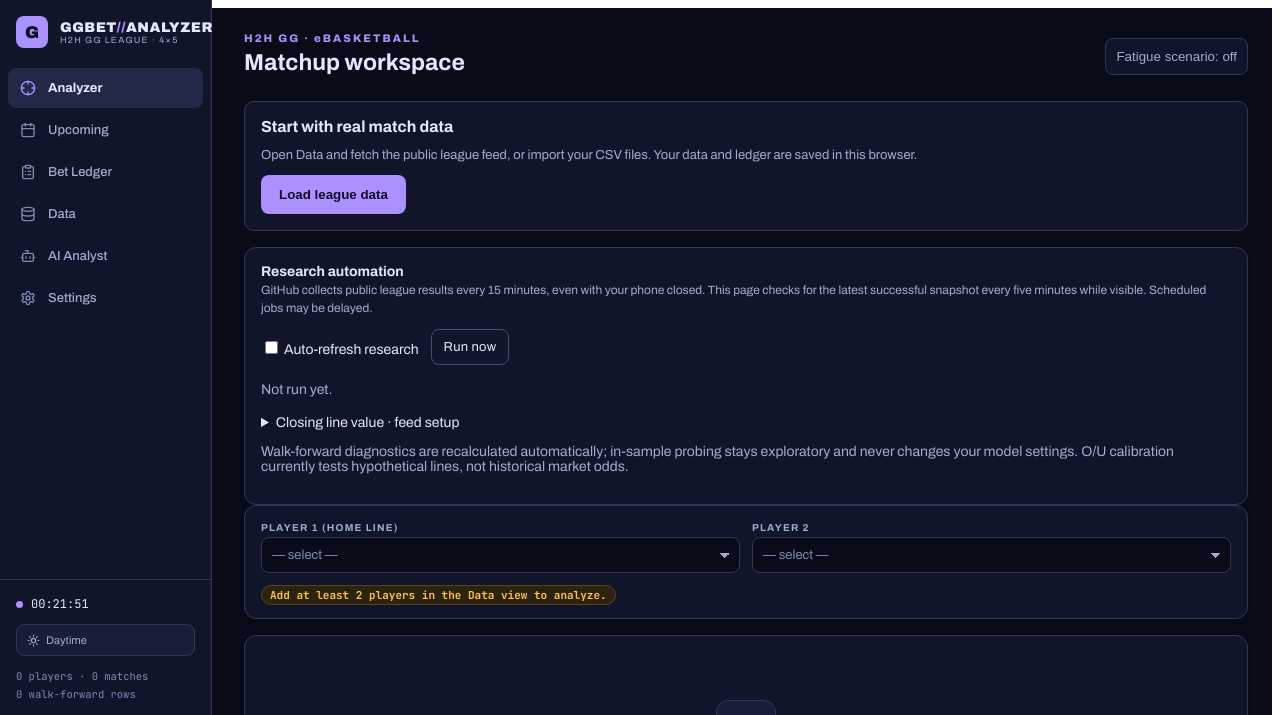
Test: app shell › fetches the upcoming feed when that view opens
The image size is (1280, 715).
Step 1. Click the button "Upcoming" → (106, 130), box [8,110,203,150]
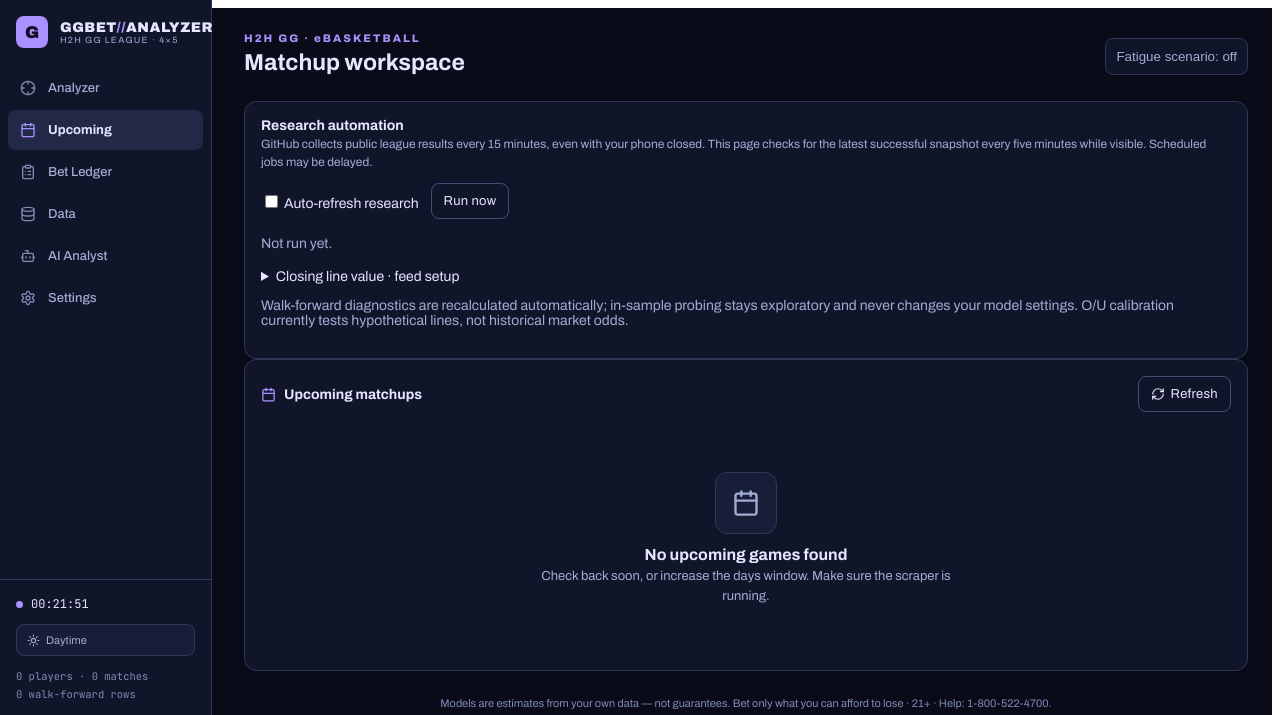
Check: the text "No upcoming games found" is shown, box [645,546,848,563]
